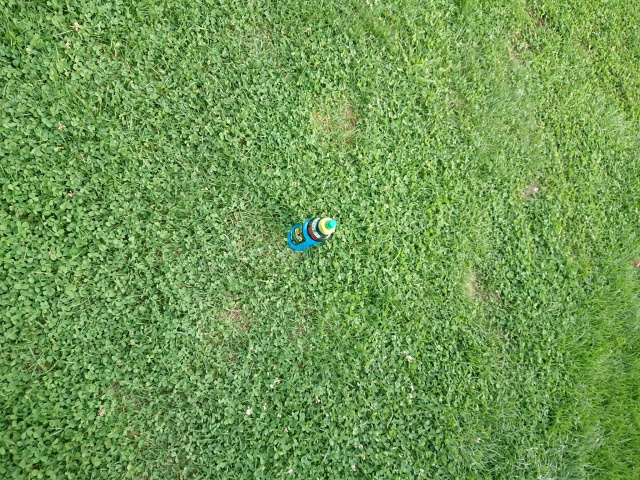Vindi Iso Sport Forest Strawberries 500mL: (285, 215, 338, 252)
